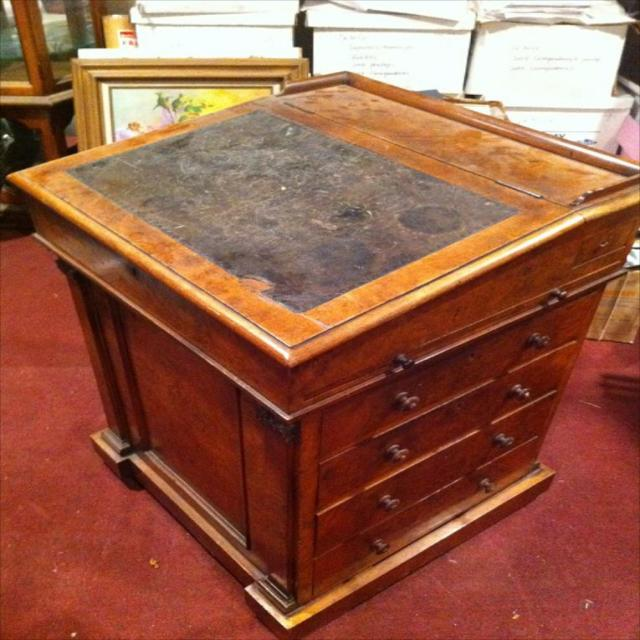Box: (5, 70, 640, 640), (309, 8, 474, 94), (470, 19, 630, 96), (0, 0, 108, 96), (131, 6, 296, 48)
